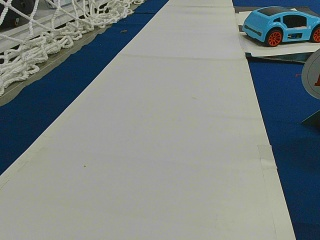car: (242, 7, 319, 46)
